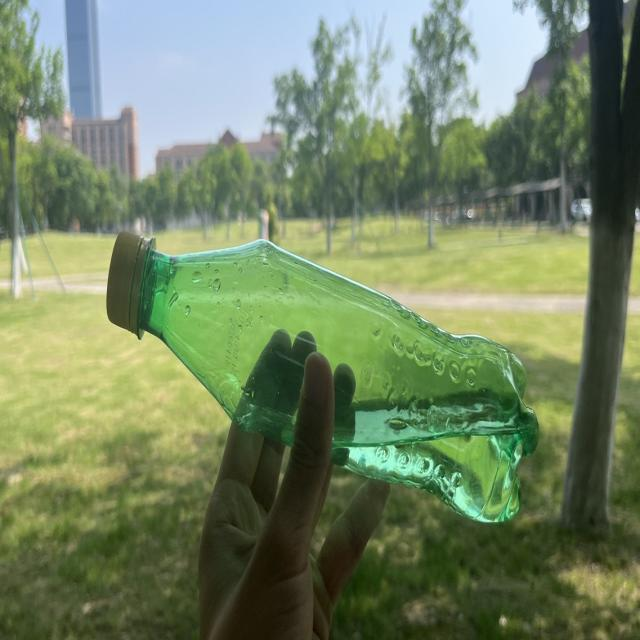low: (106, 233, 538, 521)
